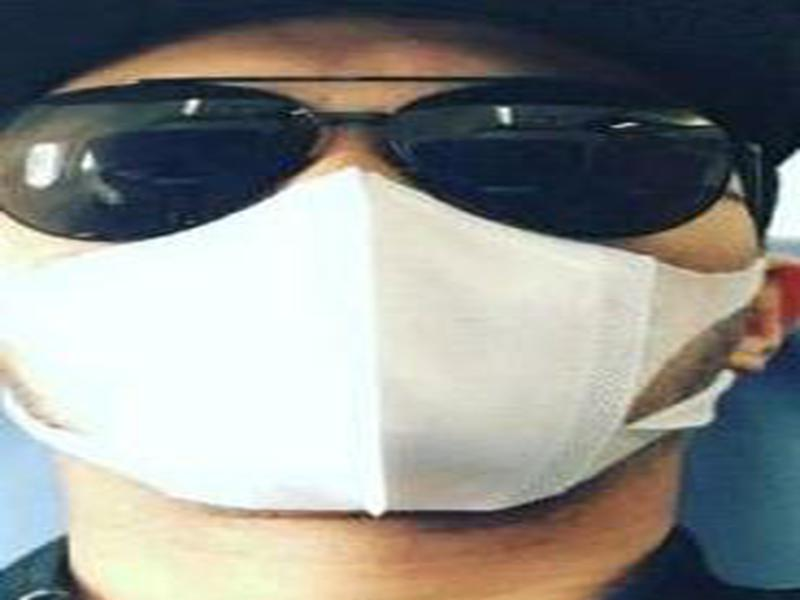with_mask: (1, 24, 795, 524)
